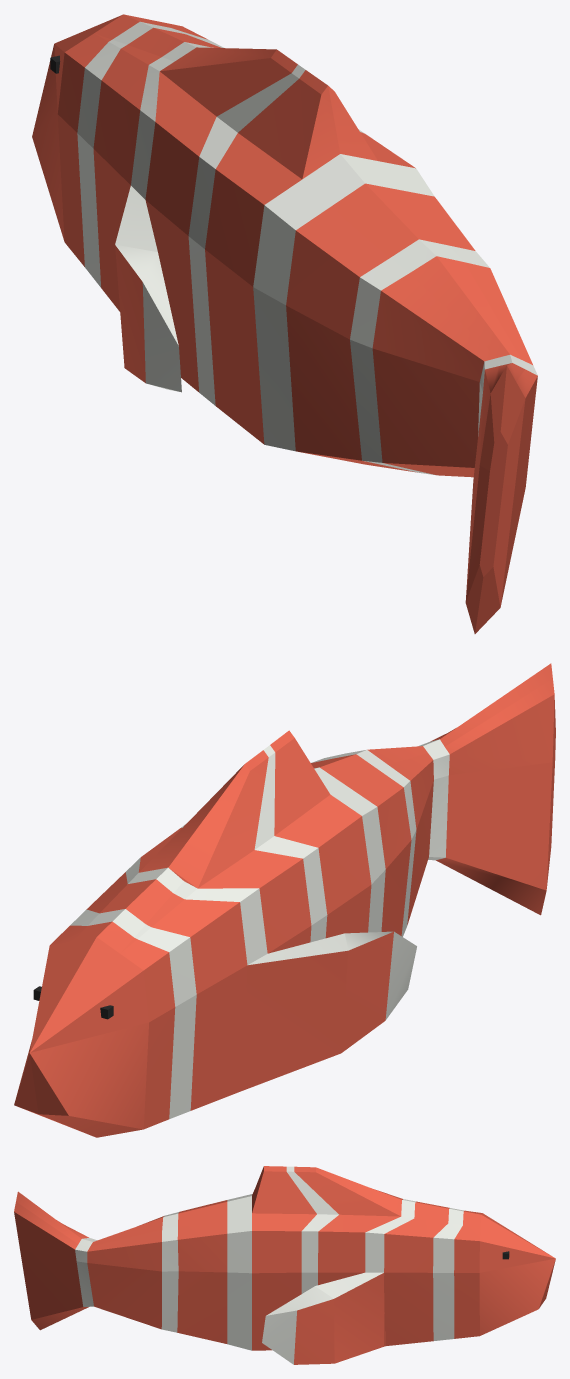
Rendered from Fish.obj.
The picture shows the model from 3 angles, top to bottom: view 1: azimuth 30°, elevation 25°; view 2: azimuth 150°, elevation 25°; view 3: azimuth 270°, elevation 25°; orthographic projection. The views are drawn at different scales.
Parts seen in each view (by area): view 1: Cube_Cube.000; view 2: Cube_Cube.000; view 3: Cube_Cube.000.
Part boxes in pixels (x1,y1,x2,y2): Cube_Cube.000: [32, 14, 537, 633]; Cube_Cube.000: [14, 663, 555, 1137]; Cube_Cube.000: [14, 1166, 555, 1364].
Bounding box in the file's own units: 1.88 × 2.04 × 5.47.
1 material, 1 textured.
